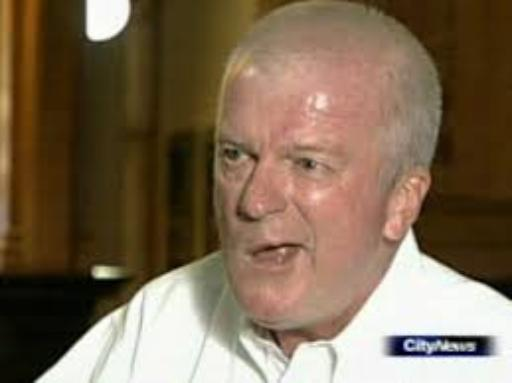left_eye: (290, 158, 338, 176)
left_lip_corner: (294, 240, 317, 258)
right_eye: (220, 149, 258, 165)
right_lip_corner: (242, 249, 256, 263)
